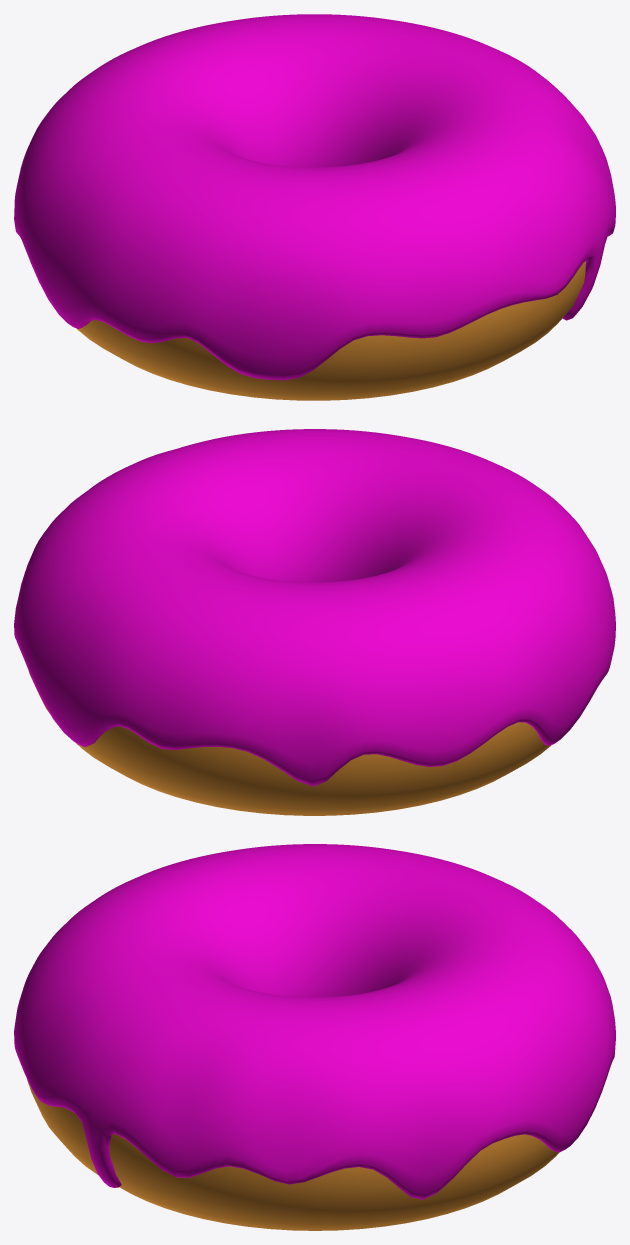
Rendered from donutEnemyPink.fbx.
3 renders of one model, top to bottom at view 1: azimuth 30°, elevation 25°; view 2: azimuth 150°, elevation 25°; view 3: azimuth 270°, elevation 25°, orthographic.
Visible parts, largest first — view 1: Icing, Donut; view 2: Icing, Donut; view 3: Icing, Donut.
Part boxes in pixels (box(x1,y1,x2,y2)): Icing: box(14, 14, 615, 380); Donut: box(76, 261, 585, 400); Icing: box(14, 429, 615, 786); Donut: box(28, 671, 551, 815); Icing: box(14, 844, 615, 1199); Donut: box(27, 1080, 558, 1230).
Bounding box in the file's own units: 128 × 49.97 × 128.
